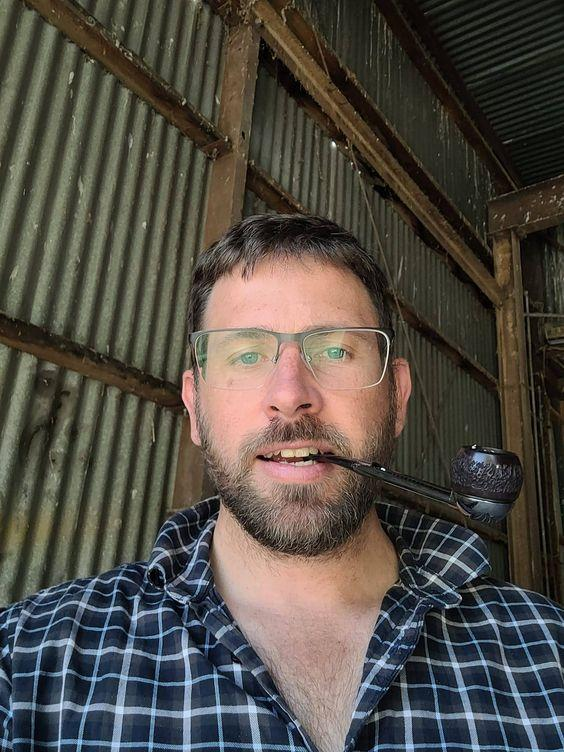trubka: (302, 445, 524, 524)
